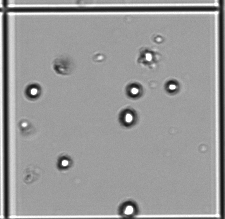Dead Cell: (53, 57, 71, 74), (23, 170, 36, 182)
Living Cell: (118, 198, 137, 217), (139, 48, 158, 65), (120, 108, 137, 126), (25, 83, 41, 100), (126, 82, 142, 98), (57, 156, 73, 169), (165, 79, 179, 93), (93, 51, 106, 63), (19, 119, 29, 130), (153, 35, 163, 44)
